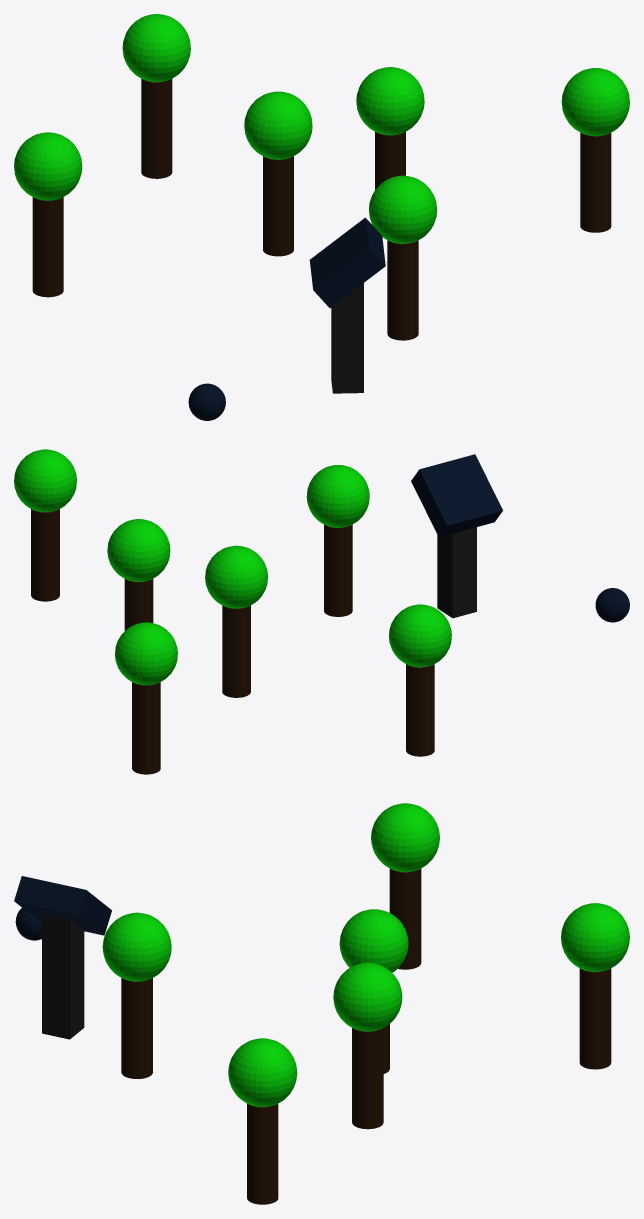
Rendered from exercise20082.obj.
The picture shows the model from 3 angles, top to bottom: view 1: azimuth 30°, elevation 25°; view 2: azimuth 150°, elevation 25°; view 3: azimuth 270°, elevation 25°; orthographic projection. The views are drawn at different scales.
Parts seen in each view (by area): view 1: Cube.001, Sphere.002, Sphere, Sphere.006, Sphere.003, Sphere.005, Sphere.004, Cube, Cylinder.004, Cylinder.006, Cylinder.003, Cylinder.005 (+3 smaller); view 2: Cube.001, Cube, Sphere.003, Sphere.005, Sphere.006, Sphere, Sphere.002, Sphere.004, Cylinder.002, Cylinder.006, Cylinder.003, Cylinder.005 (+4 smaller); view 3: Cube, Sphere.003, Sphere, Sphere.004, Sphere.006, Sphere.005, Sphere.002, Cube.001, Cylinder.005, Cylinder.003, Cylinder.004, Cylinder (+3 smaller).
Boxes of the visible parts, bbox=[...] form: Cube.001: bbox=[309, 217, 385, 308]; Sphere.002: bbox=[244, 91, 312, 159]; Sphere: bbox=[356, 67, 424, 135]; Sphere.006: bbox=[14, 132, 82, 200]; Sphere.003: bbox=[561, 68, 629, 136]; Sphere.005: bbox=[122, 14, 190, 82]; Sphere.004: bbox=[369, 175, 437, 243]; Cube: bbox=[331, 283, 363, 393]; Cylinder.004: bbox=[387, 240, 418, 340]; Cylinder.006: bbox=[32, 197, 63, 297]; Cylinder.003: bbox=[580, 132, 611, 232]; Cylinder.005: bbox=[141, 79, 172, 178]; Cube.001: bbox=[411, 454, 502, 537]; Cube: bbox=[437, 527, 476, 618]; Sphere.003: bbox=[14, 449, 76, 512]; Sphere.005: bbox=[115, 622, 177, 685]; Sphere.006: bbox=[389, 604, 451, 667]; Sphere: bbox=[107, 519, 170, 581]; Sphere.002: bbox=[205, 545, 267, 608]; Sphere.004: bbox=[306, 465, 369, 527]; Cylinder.002: bbox=[222, 605, 250, 697]; Cylinder.006: bbox=[406, 664, 434, 756]; Cylinder.003: bbox=[31, 509, 59, 601]; Cylinder.005: bbox=[132, 682, 160, 774]; Cube: bbox=[42, 913, 84, 1039]; Sphere.003: bbox=[228, 1038, 297, 1107]; Sphere: bbox=[333, 962, 402, 1031]; Sphere.004: bbox=[102, 912, 171, 981]; Sphere.006: bbox=[371, 803, 439, 872]; Sphere.005: bbox=[561, 903, 629, 971]; Sphere.002: bbox=[339, 909, 408, 972]; Cube.001: bbox=[14, 876, 111, 935]; Cylinder.005: bbox=[579, 968, 611, 1069]; Cylinder.003: bbox=[247, 1103, 278, 1204]; Cylinder.004: bbox=[121, 978, 152, 1078]; Cylinder: bbox=[352, 1028, 383, 1128].
Size of what is drawn, in the model's own units: 40.53 by 11.23 by 39.13.
